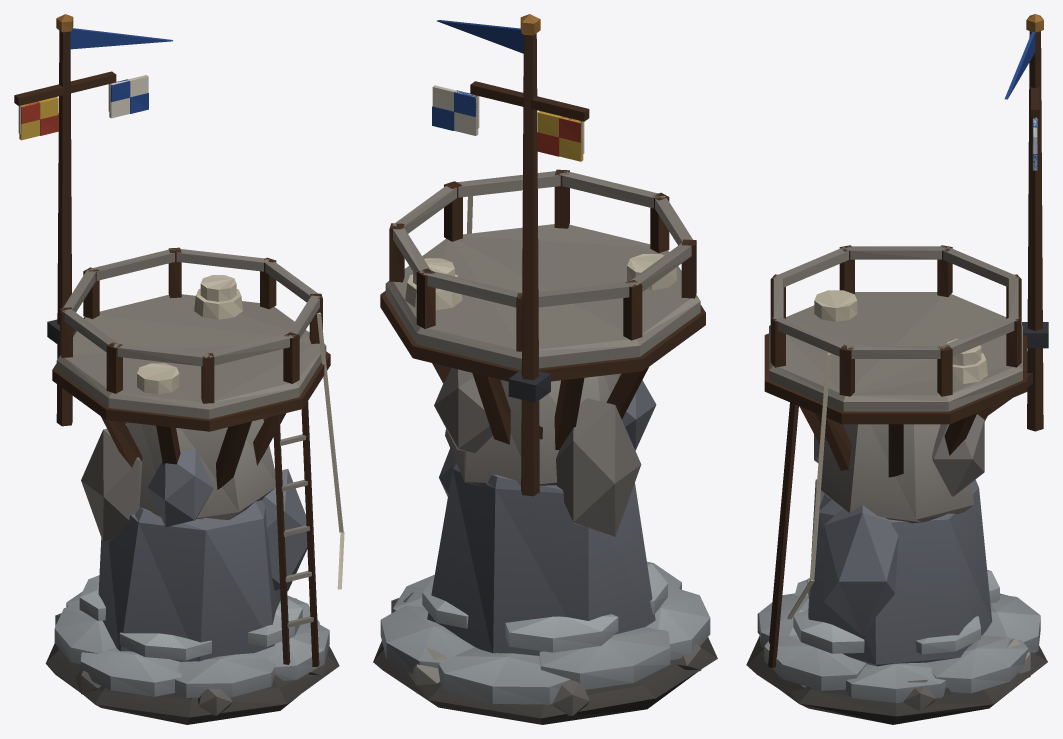
The model's file is pinning_ballista.glb.
3 renders of one model, left to right at view 1: azimuth 30°, elevation 25°; view 2: azimuth 150°, elevation 25°; view 3: azimuth 270°, elevation 25°, orthographic. The views are drawn at different scales.
Parts seen in each view (by area): view 1: pinning_ballista; view 2: pinning_ballista; view 3: pinning_ballista.
Boxes of the visible parts, left/top/right/bottom form: pinning_ballista: left=14, top=14, right=344, bottom=724; pinning_ballista: left=373, top=14, right=717, bottom=724; pinning_ballista: left=746, top=14, right=1048, bottom=724.
Size of the model in its own units: 0.8711 by 2.05 by 0.902.
